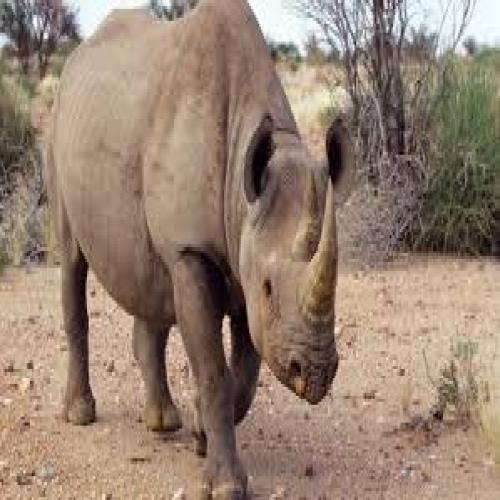rhino-endangered: (51, 2, 336, 498)
